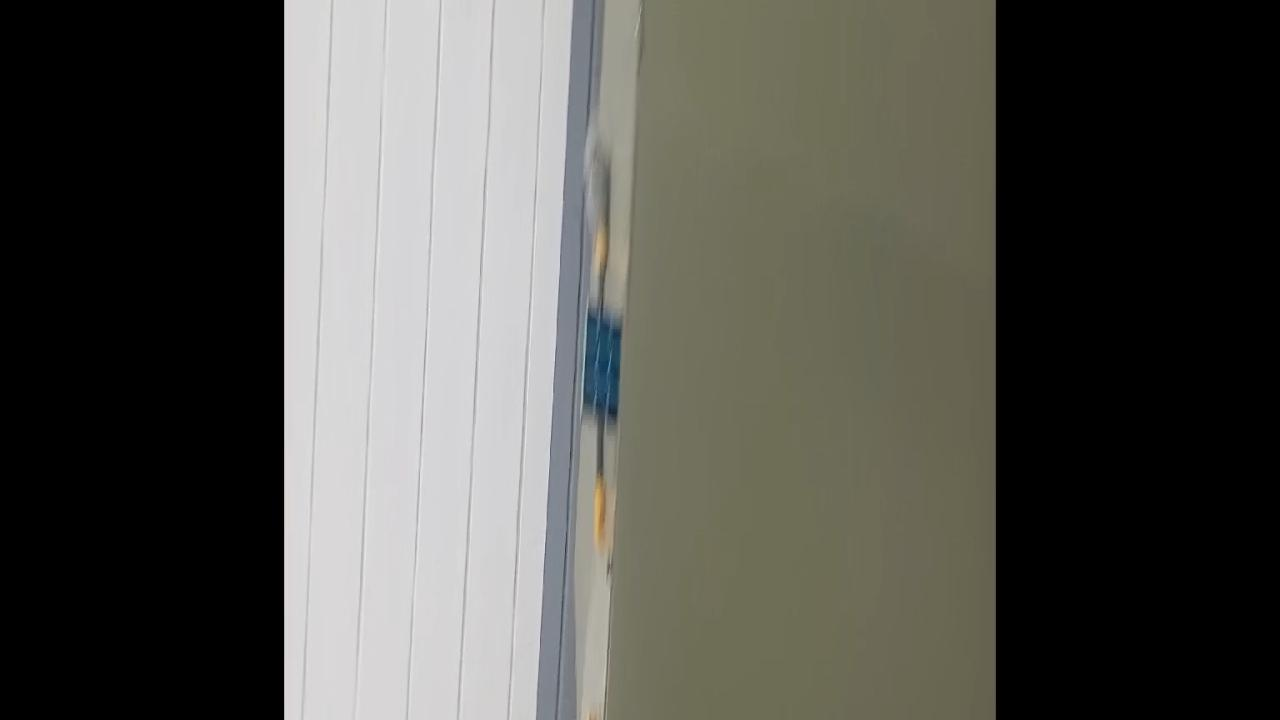Cube: (577, 296, 619, 430)
